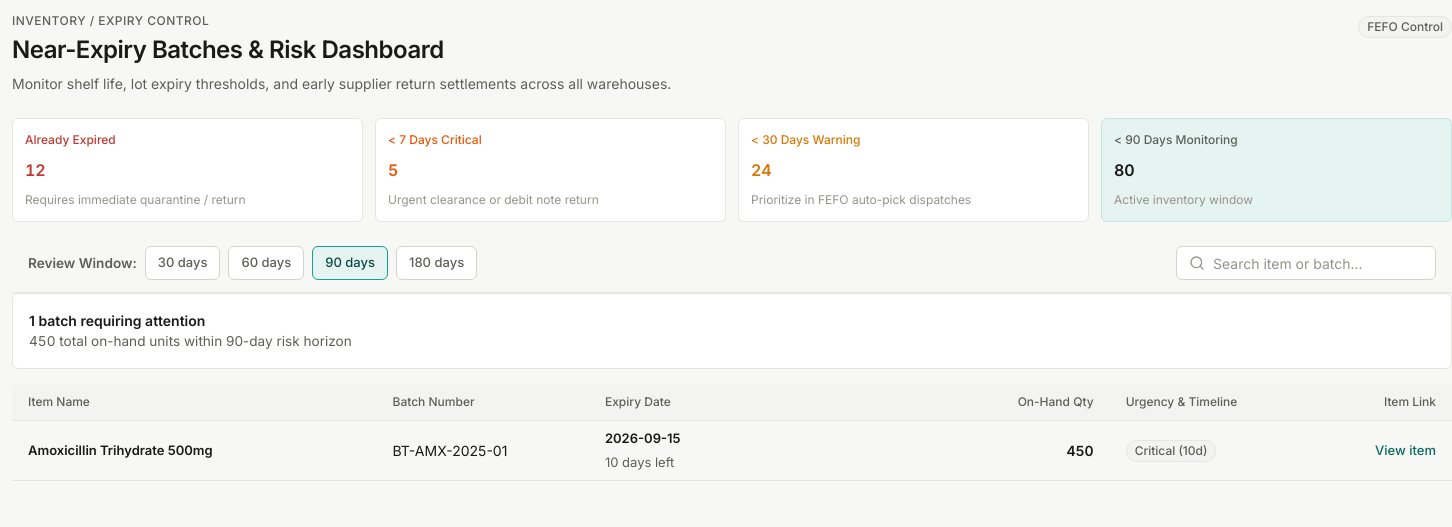
Test: NearExpiryPage › filters batches by search input
Expected: the text "Amoxicillin Trihydrate 500mg" is shown, top-left (28, 442), bottom-right (213, 458)
Type "NonExistentDrug" into the search field with placeholder "Search item or batch..." at (1318, 263), box top-left (1213, 253), bottom-right (1423, 274)
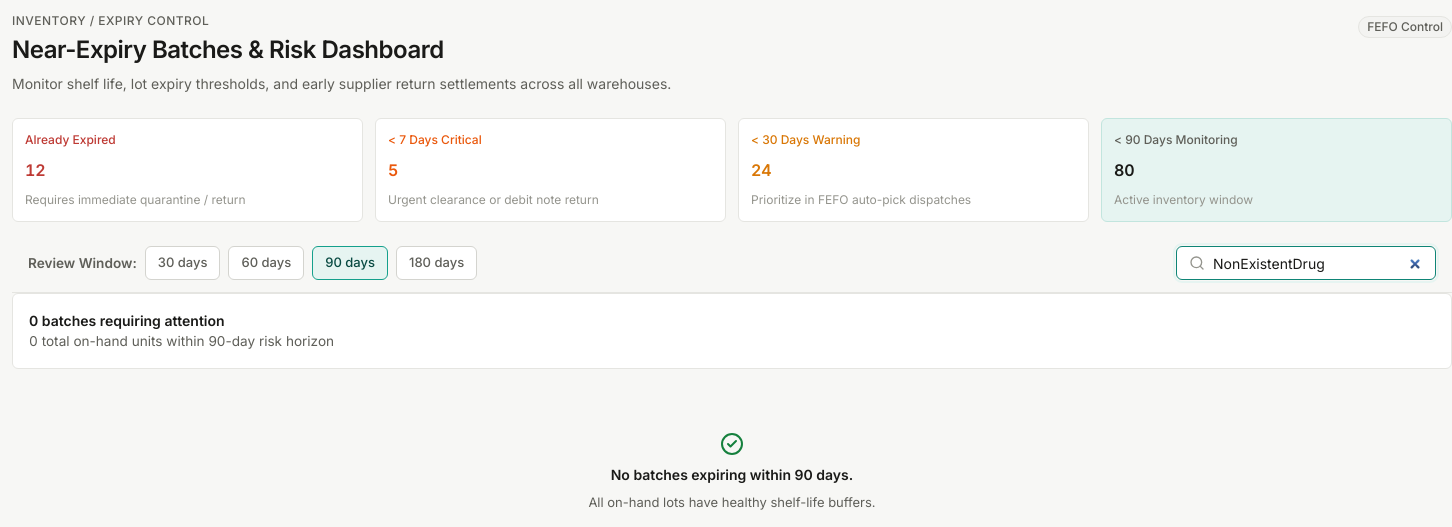
Expected: the text "Amoxicillin Trihydrate 500mg" is gone
